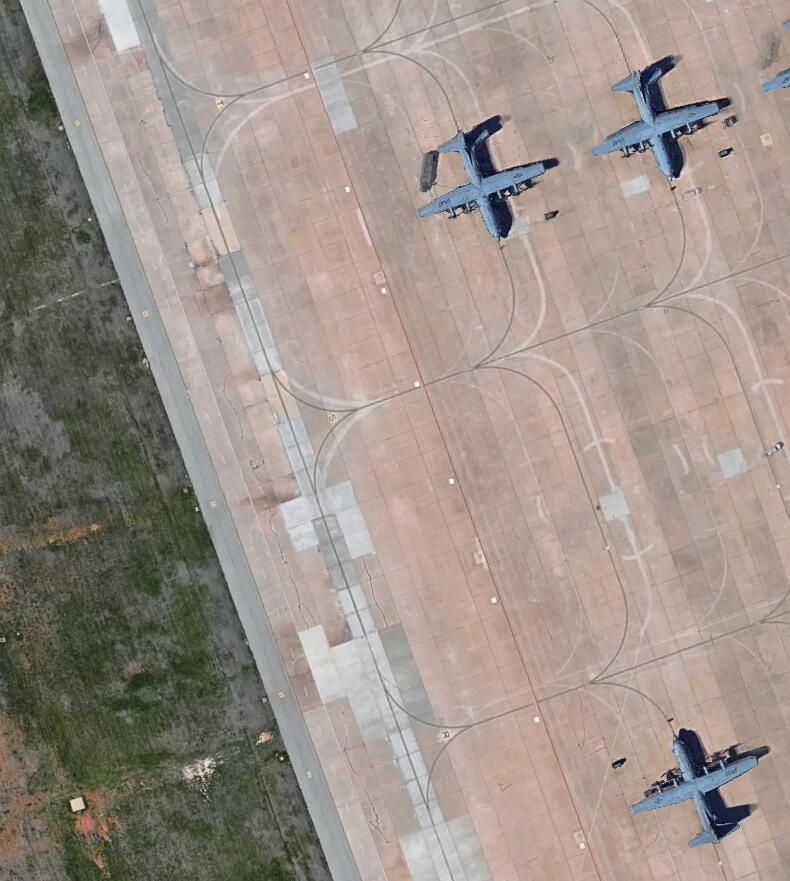A2: (409, 114, 559, 249), (584, 54, 735, 187), (624, 720, 770, 848)
